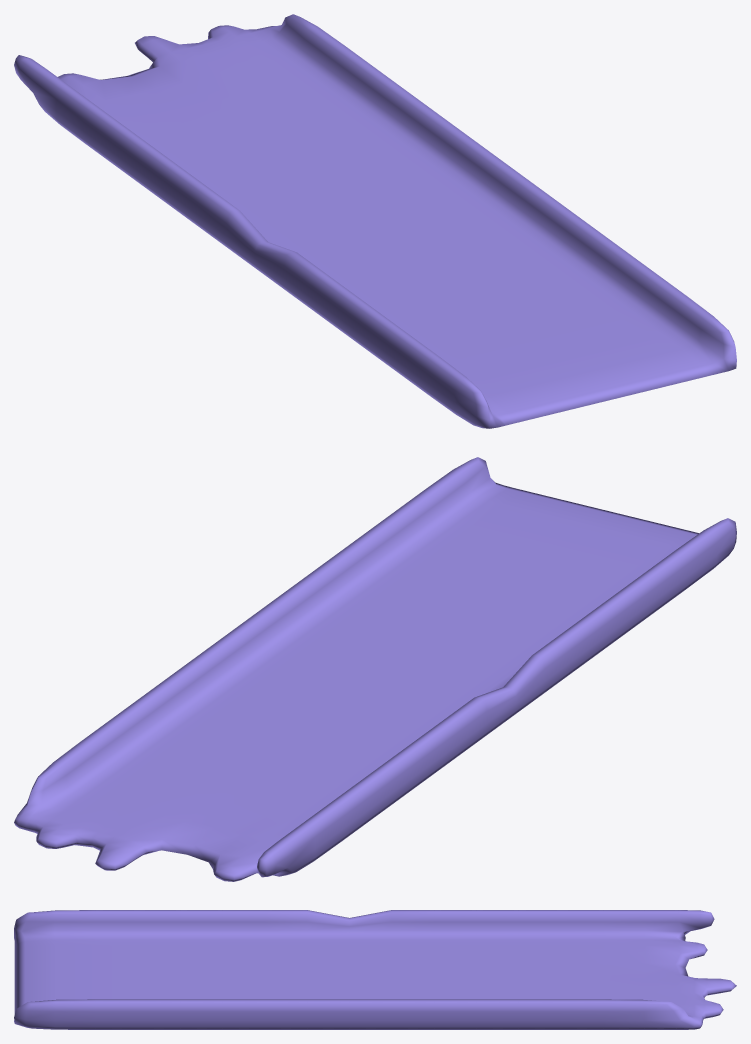
Rendered from Floor_1_Level_Height1_MainBridge.fbx.
3 views of the same model, one above another, from view 1: azimuth 30°, elevation 25°; view 2: azimuth 150°, elevation 25°; view 3: azimuth 270°, elevation 25° (orthographic). The views are drawn at different scales.
Visible parts, largest first — view 1: MainBridge; view 2: MainBridge; view 3: MainBridge.
Part boxes in pixels (x1,y1,x2,y2): MainBridge: (14,14,736,428); MainBridge: (14,457,736,881); MainBridge: (14,910,736,1029).
Bounding box in the file's own units: 1000 × 143 × 3205.
